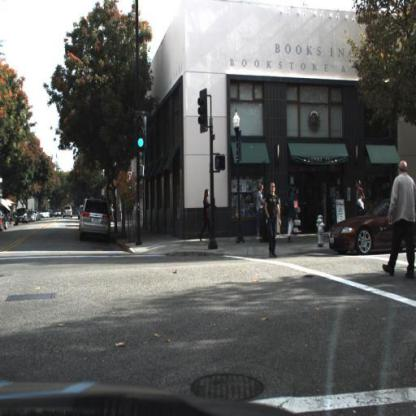car: (329, 196, 416, 262), (77, 195, 116, 242)
pedestrian: (388, 158, 414, 285), (265, 182, 282, 261), (196, 189, 215, 249), (282, 185, 298, 247), (253, 182, 267, 245), (352, 175, 367, 215)
trafficLight-Green: (135, 113, 145, 148)
